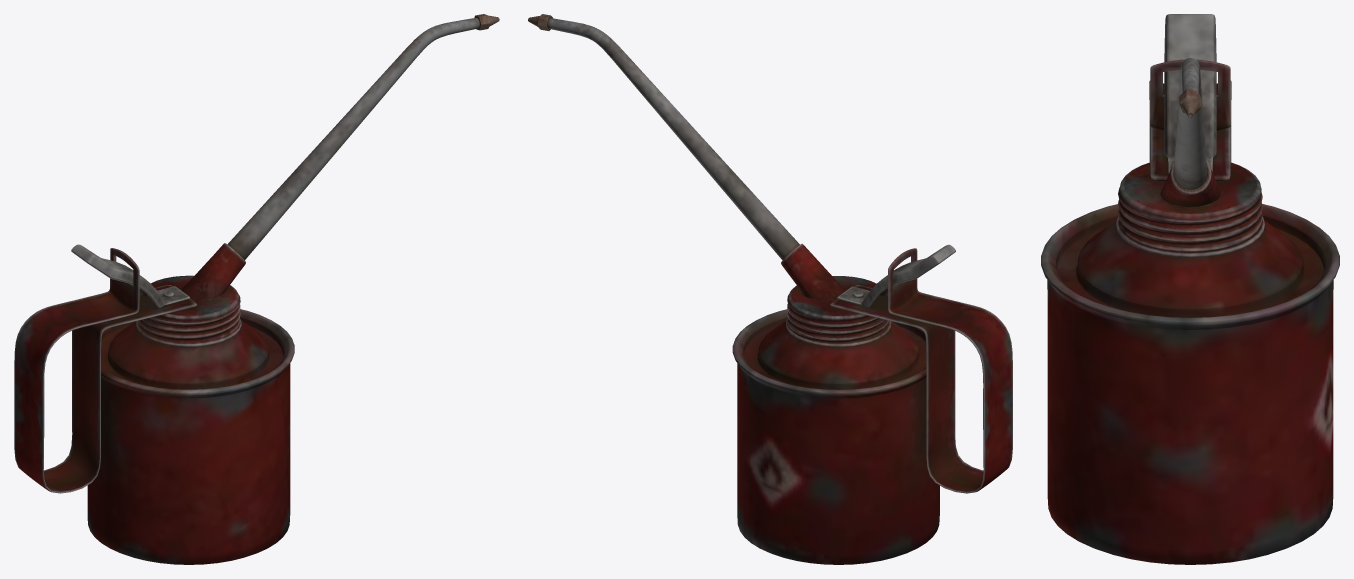
The model's file is prop-oil-can-small.glb.
3 views of the same model, side by side, from view 1: azimuth 30°, elevation 25°; view 2: azimuth 150°, elevation 25°; view 3: azimuth 270°, elevation 25° (orthographic). The views are drawn at different scales.
Visible parts, largest first — view 1: small_oil_can_01; view 2: small_oil_can_01; view 3: small_oil_can_01.
Boxes of the visible parts, x1=… form: small_oil_can_01: x1=14, y1=14, x2=499, y2=564; small_oil_can_01: x1=528, y1=14, x2=1012, y2=564; small_oil_can_01: x1=1041, y1=14, x2=1339, y2=564.
Bounding box in the file's own units: 0.2661 × 0.2368 × 0.1039.
1 material, 1 textured.
